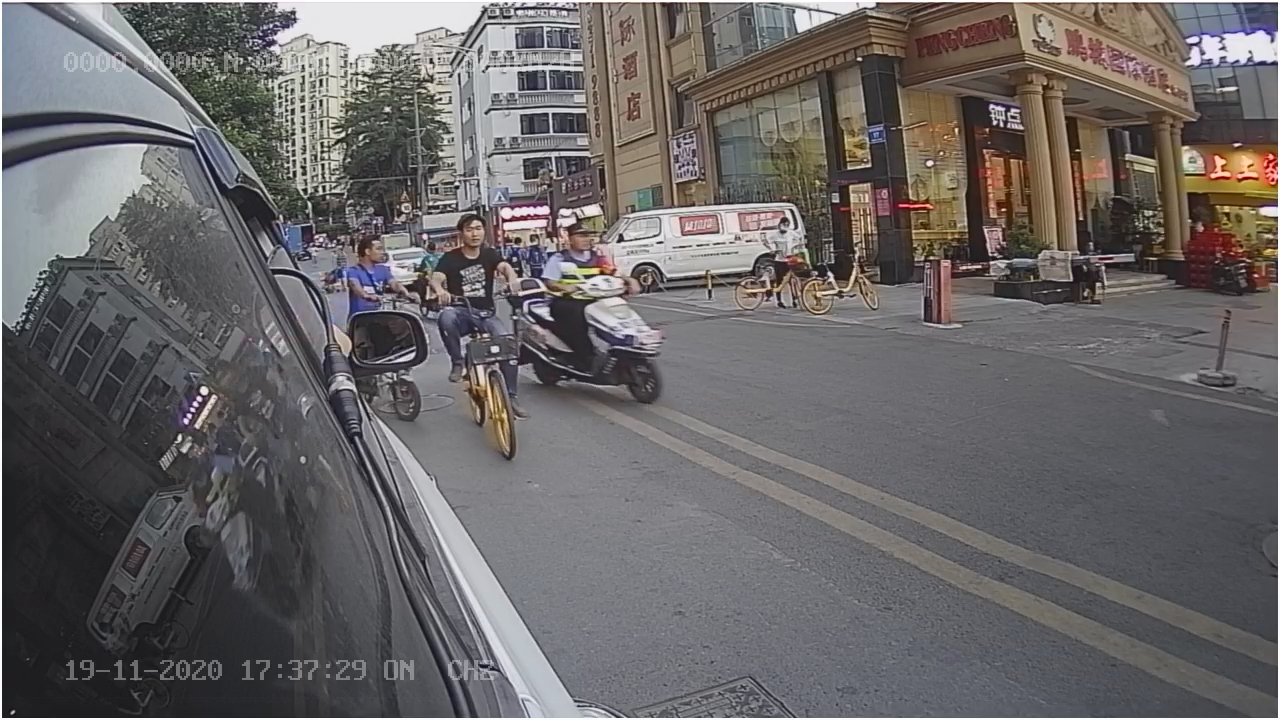person: (426, 217, 512, 301)
